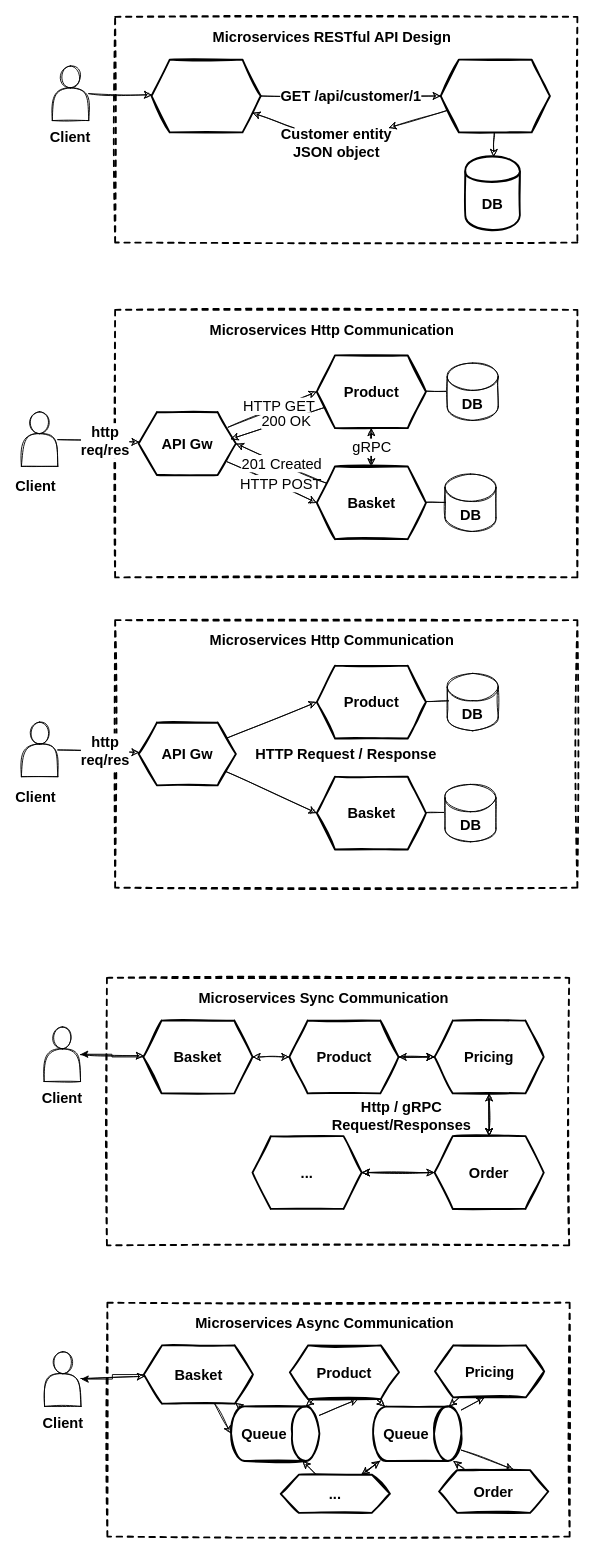
Some shapes in this 593 by 1552 pixel diagram are drawn without their labels. Each missing label, with the centre of its shape:
Customer: [494,95]
Shopping Cart: [205,95]
